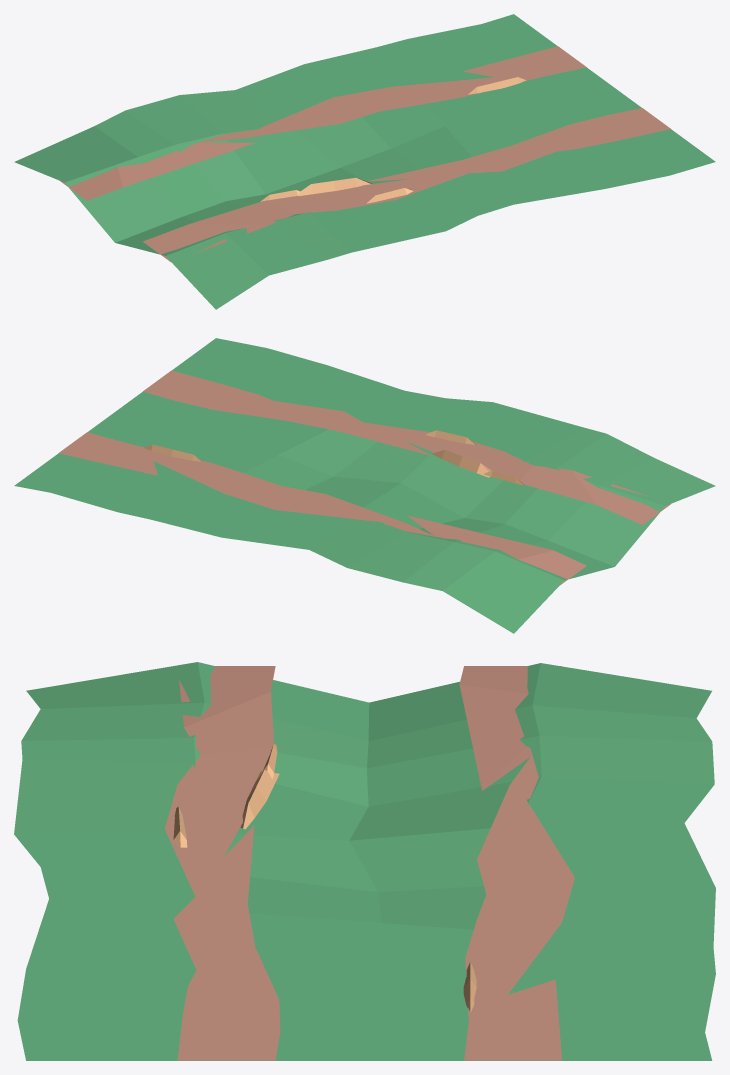
File: FarmRoadPatch_end.fbx
3 views of the same model, one above another, from view 1: azimuth 30°, elevation 25°; view 2: azimuth 150°, elevation 25°; view 3: azimuth 270°, elevation 25° (orthographic). The views are drawn at different scales.
Visible parts, largest first — view 1: FarmRoadPatch_end; view 2: FarmRoadPatch_end; view 3: FarmRoadPatch_end.
Part boxes in pixels (left/top/right/bottom): FarmRoadPatch_end: left=14, top=14, right=715, bottom=309; FarmRoadPatch_end: left=14, top=338, right=715, bottom=633; FarmRoadPatch_end: left=14, top=662, right=715, bottom=1060.
Bounding box in the file's own units: 20 × 1.57 × 14.32.
